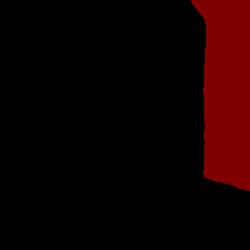Sky: (191, 1, 249, 190)
